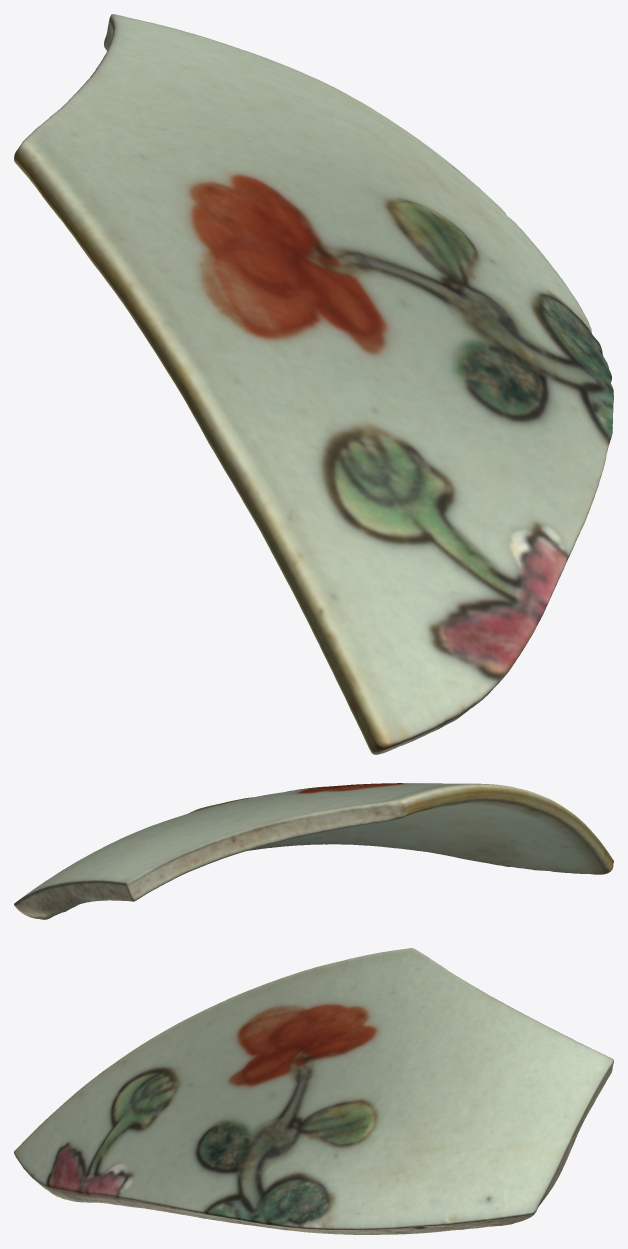
The picture shows the model from 3 angles, top to bottom: view 1: azimuth 30°, elevation 25°; view 2: azimuth 150°, elevation 25°; view 3: azimuth 270°, elevation 25°; orthographic projection. The views are drawn at different scales.
Visible parts, largest first — view 1: Node; view 2: Node; view 3: Node.
Boxes of the visible parts, x1=… form: Node: x1=14, y1=14, x2=613, y2=754; Node: x1=14, y1=783, x2=613, y2=919; Node: x1=14, y1=948, x2=613, y2=1234.
Size of the model in its own units: 49.41 by 32.69 by 83.86.
Materials: 1 (1 with a texture image).
